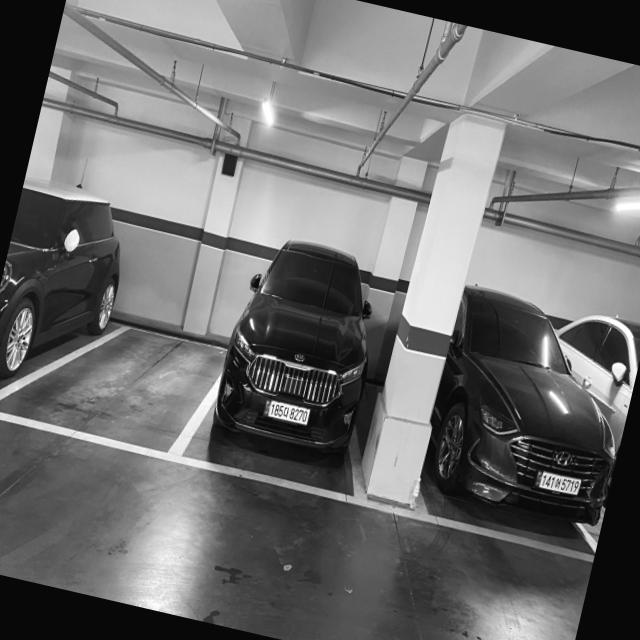car: (417, 281, 640, 531), (208, 228, 392, 464)
free: (0, 323, 227, 462)
